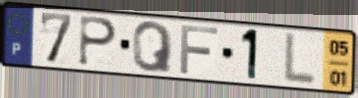1: (237, 27, 260, 84)
7: (39, 10, 75, 66)
F: (178, 23, 221, 76)
L: (281, 31, 318, 88)
P: (77, 14, 120, 69)
Q: (131, 20, 175, 75)
